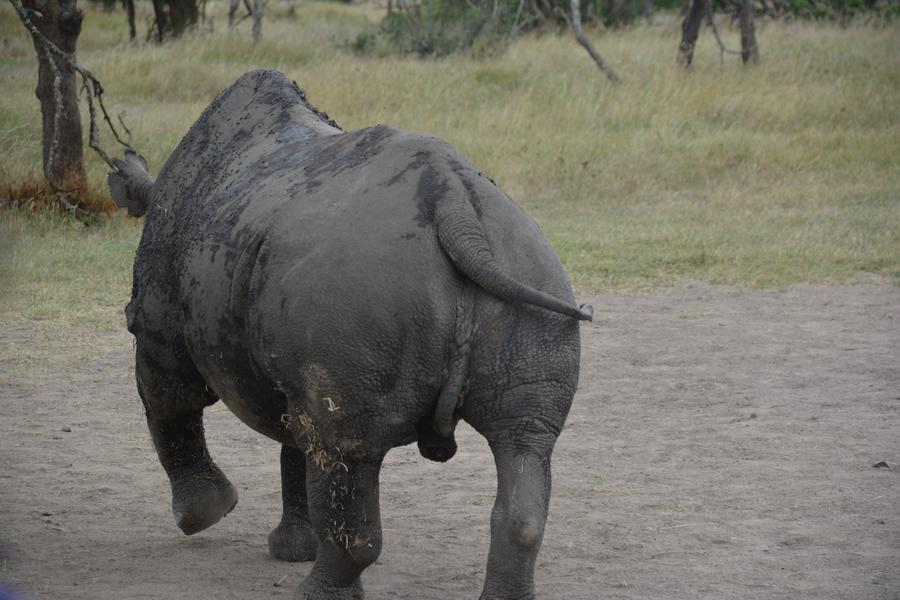rhino: (127, 78, 591, 582)
